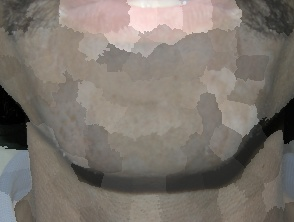vitiligo: (4, 0, 280, 177)
